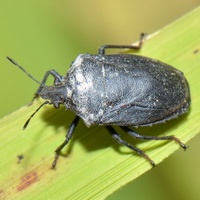insect: (7, 33, 190, 168)
